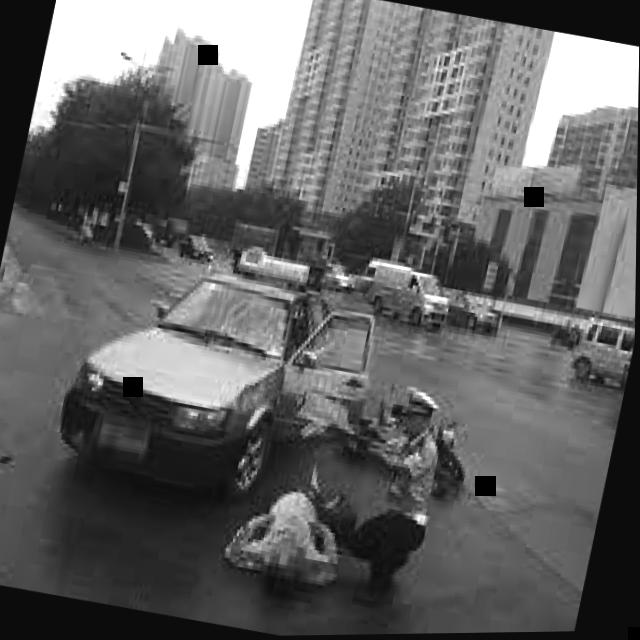Fall-Detected: (215, 441, 367, 608)
